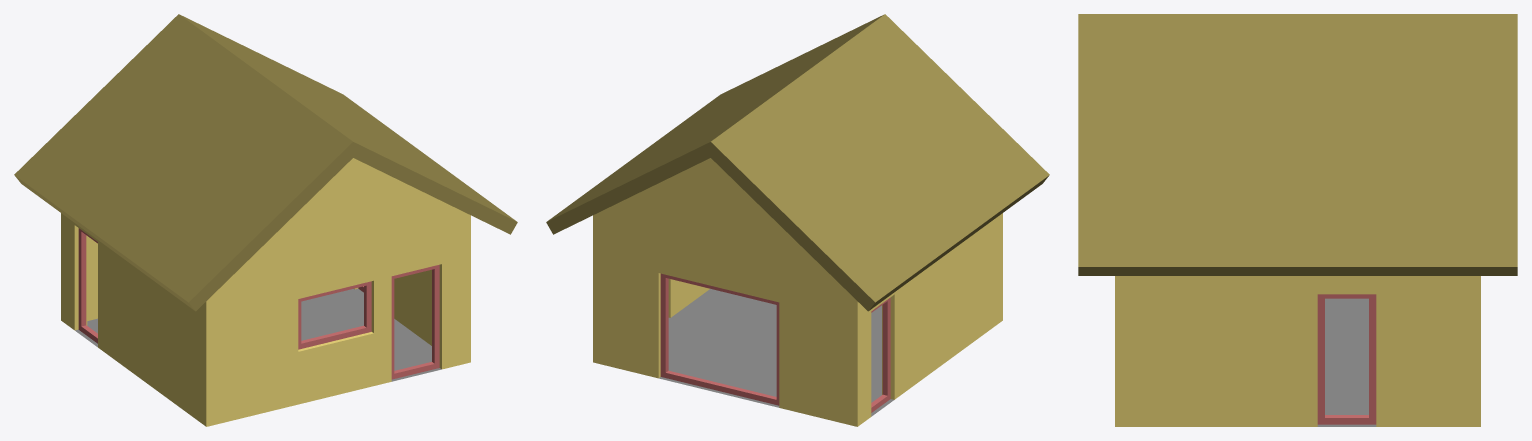
File: result.glb
The picture shows the model from 3 angles, left to right: view 1: azimuth 30°, elevation 25°; view 2: azimuth 150°, elevation 25°; view 3: azimuth 270°, elevation 25°; orthographic projection. The views are drawn at different scales.
Parts seen in each view (by area): view 1: 253f933b-89e3-47f2-84cf-912ac5d9c639__undefined (×2), d2ec2414-54de-4385-aa61-a248c7c78241__undefined, 997244f1-e1ac-4fe8-aaa9-70d99da69e2a__Plane_6, bf42ef1a-454a-45ca-a7ec-8b43d83825f7__Box, 2e720c17-4f29-4320-90a8-a834b6ac3214__Box_3, 9166b7ba-5c72-4887-8e36-20eb09277ed9__Box_12; view 2: 253f933b-89e3-47f2-84cf-912ac5d9c639__undefined (×2), d2ec2414-54de-4385-aa61-a248c7c78241__undefined, 997244f1-e1ac-4fe8-aaa9-70d99da69e2a__Plane_6, 152b9389-74bd-4217-967b-9289c4c46377__Box_9, 9166b7ba-5c72-4887-8e36-20eb09277ed9__Box_12; view 3: 253f933b-89e3-47f2-84cf-912ac5d9c639__undefined, d2ec2414-54de-4385-aa61-a248c7c78241__undefined, 997244f1-e1ac-4fe8-aaa9-70d99da69e2a__Plane_6, d7d46993-7736-4a0f-bd1b-a7ad99e1c8e9__Box_15.
Part boxes in pixels (bbox=[...]): 253f933b-89e3-47f2-84cf-912ac5d9c639__undefined (×2): bbox=[14, 14, 517, 311]; d2ec2414-54de-4385-aa61-a248c7c78241__undefined: bbox=[61, 158, 470, 426]; 997244f1-e1ac-4fe8-aaa9-70d99da69e2a__Plane_6: bbox=[75, 288, 441, 381]; bf42ef1a-454a-45ca-a7ec-8b43d83825f7__Box: bbox=[391, 264, 439, 379]; 2e720c17-4f29-4320-90a8-a834b6ac3214__Box_3: bbox=[298, 281, 371, 349]; 9166b7ba-5c72-4887-8e36-20eb09277ed9__Box_12: bbox=[78, 228, 97, 343]; 253f933b-89e3-47f2-84cf-912ac5d9c639__undefined (×2): bbox=[546, 14, 1049, 311]; d2ec2414-54de-4385-aa61-a248c7c78241__undefined: bbox=[593, 158, 1002, 426]; 997244f1-e1ac-4fe8-aaa9-70d99da69e2a__Plane_6: bbox=[659, 289, 893, 416]; 152b9389-74bd-4217-967b-9289c4c46377__Box_9: bbox=[660, 273, 779, 405]; 9166b7ba-5c72-4887-8e36-20eb09277ed9__Box_12: bbox=[871, 297, 890, 412]; 253f933b-89e3-47f2-84cf-912ac5d9c639__undefined: bbox=[1078, 14, 1517, 275]; d2ec2414-54de-4385-aa61-a248c7c78241__undefined: bbox=[1115, 276, 1480, 426]; 997244f1-e1ac-4fe8-aaa9-70d99da69e2a__Plane_6: bbox=[1317, 298, 1376, 426]; d7d46993-7736-4a0f-bd1b-a7ad99e1c8e9__Box_15: bbox=[1317, 294, 1376, 424].
Size of the model in its own units: 654 by 500 by 600.
